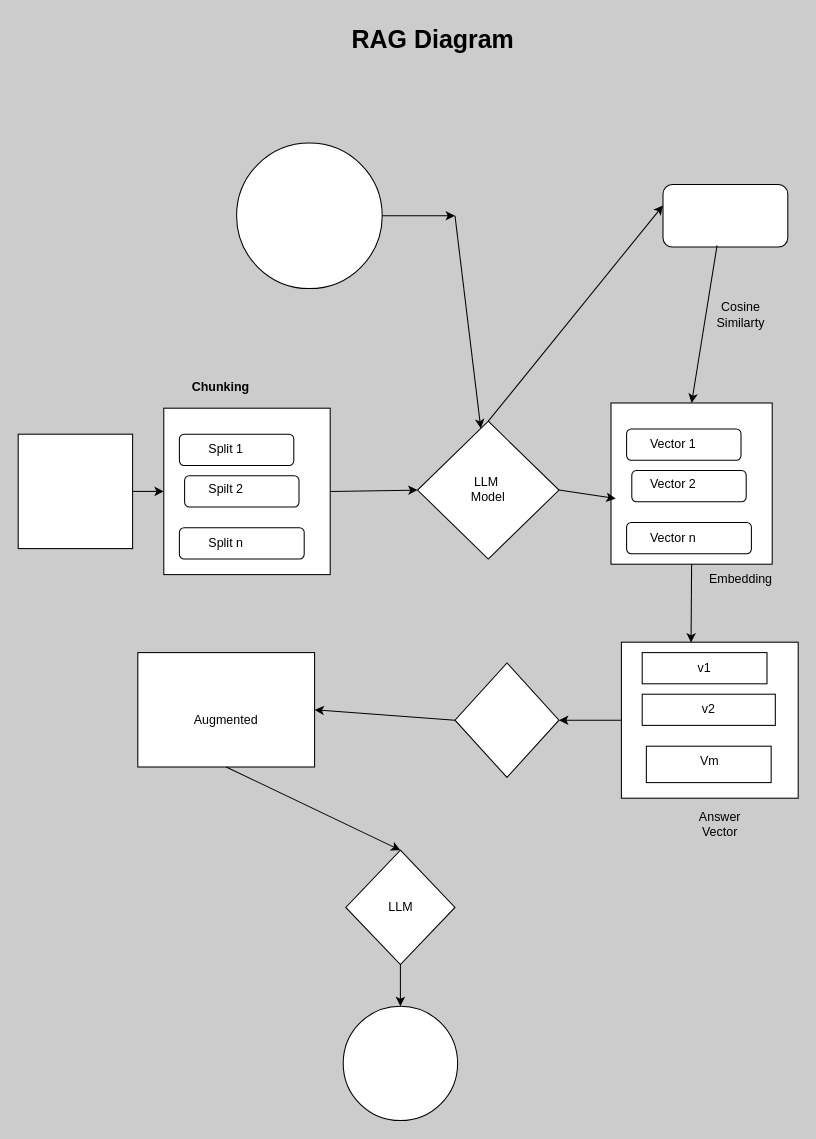
This 816x1139 diagram has some shape labels left out. The shapes that lost their labels are listed below. From the top down, each one's centre as x and y in pixels, then its label:
At point 309,215: "Query (English)".
At point 725,215: "Qn Vector".
At point 75,491: "Data".
At point 506,719: "Prompt".
At point 400,1063: "Answer".
